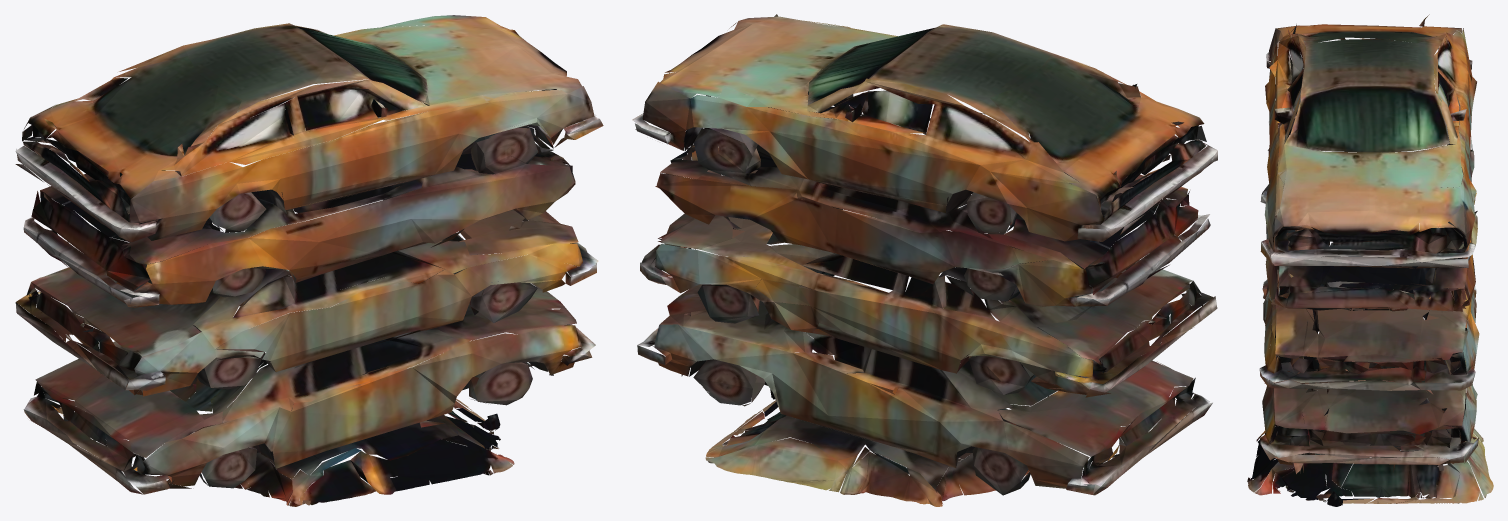
File: crushed-car-stack.glb
The picture shows the model from 3 angles, left to right: view 1: azimuth 30°, elevation 25°; view 2: azimuth 150°, elevation 25°; view 3: azimuth 270°, elevation 25°; orthographic projection. The views are drawn at different scales.
Visible parts, largest first — view 1: tmplnuh7k3t.ply; view 2: tmplnuh7k3t.ply; view 3: tmplnuh7k3t.ply.
Boxes of the visible parts, x1=… form: tmplnuh7k3t.ply: x1=15, y1=15, x2=603, y2=506; tmplnuh7k3t.ply: x1=632, y1=14, x2=1217, y2=506; tmplnuh7k3t.ply: x1=1247, y1=14, x2=1493, y2=506.
Size of the model in its own units: 5 by 4 by 2.5.
Materials: 1 (1 with a texture image).
